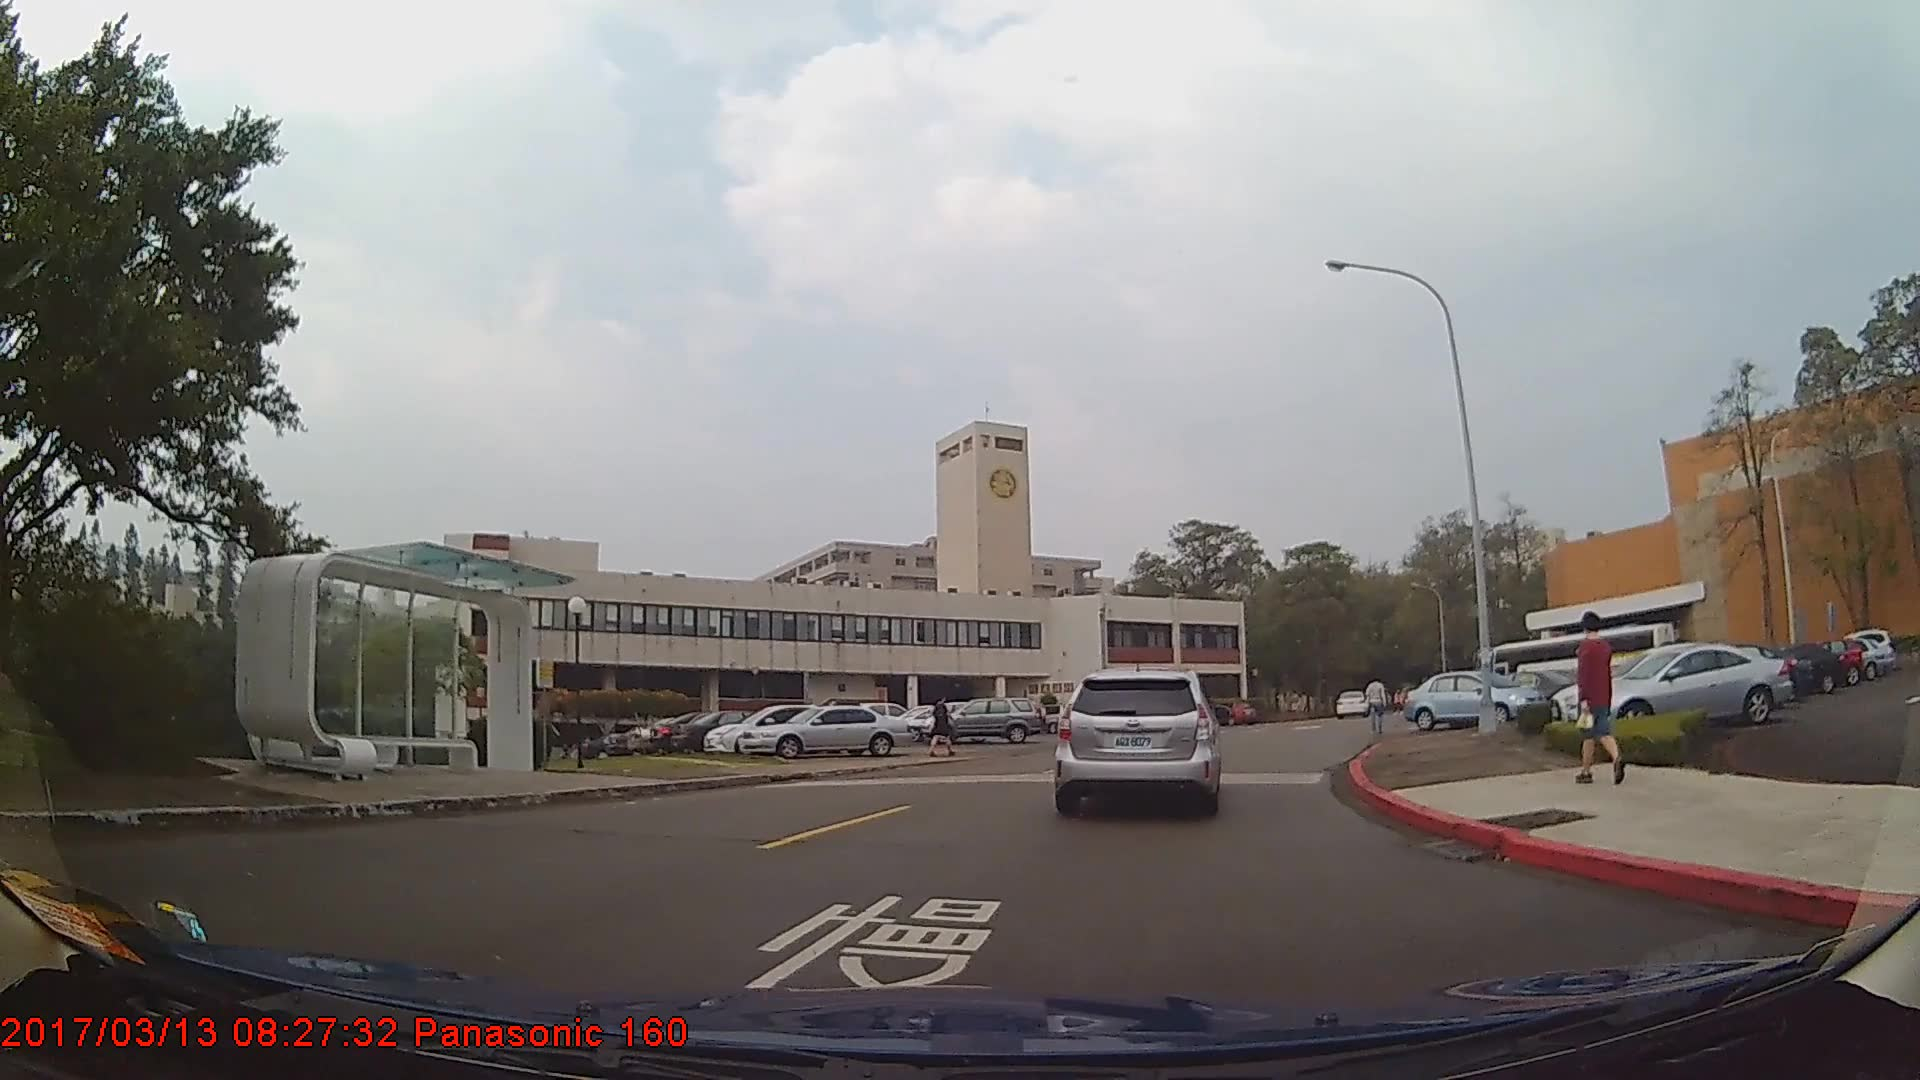pedestrian: (1571, 609, 1627, 783), (929, 693, 957, 761), (1363, 673, 1390, 735)
vehicle: (1057, 669, 1220, 815), (1569, 640, 1790, 728), (736, 703, 912, 758), (695, 699, 865, 751), (1400, 669, 1544, 729), (1730, 640, 1842, 693), (918, 694, 1045, 741), (668, 708, 782, 755), (1333, 687, 1367, 719)
